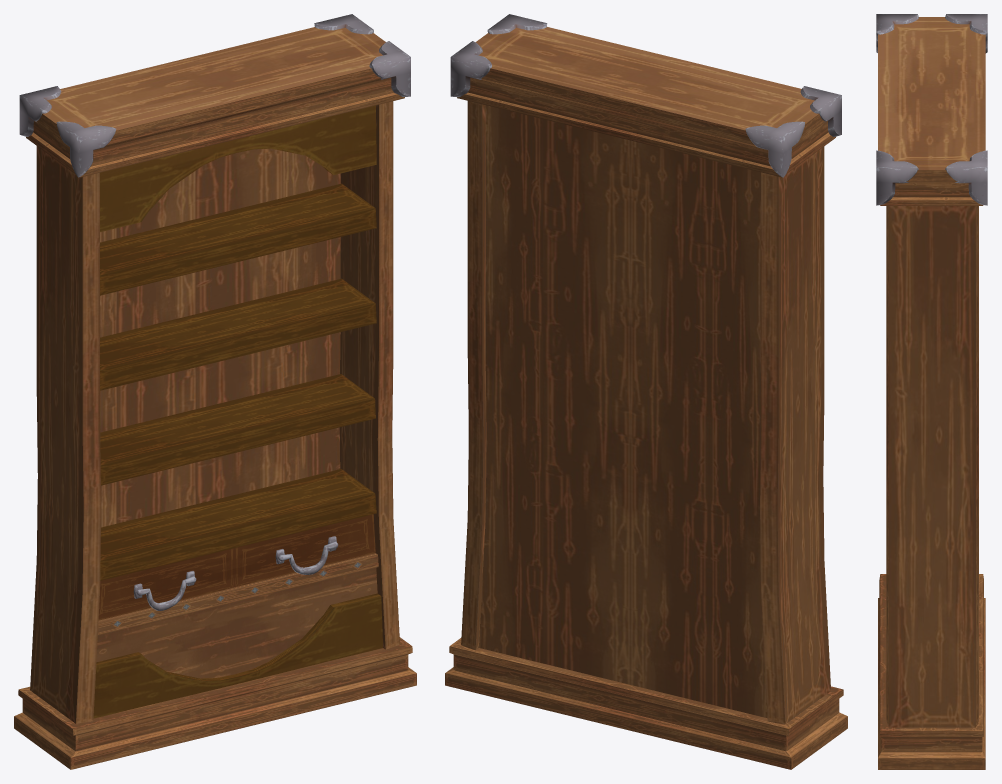
Rendered from Bookcase_2.gltf.
The picture shows the model from 3 angles, left to right: view 1: azimuth 30°, elevation 25°; view 2: azimuth 150°, elevation 25°; view 3: azimuth 270°, elevation 25°; orthographic projection. The views are drawn at different scales.
Visible parts, largest first — view 1: Bookcase_2; view 2: Bookcase_2; view 3: Bookcase_2.
Boxes of the visible parts, x1,y1,x2,y2 form: Bookcase_2: (14,14,416,769); Bookcase_2: (445,14,847,769); Bookcase_2: (876,14,987,769).
Bounding box in the file's own units: 1.46 × 2.54 × 0.429.
2 materials, 2 textured.
